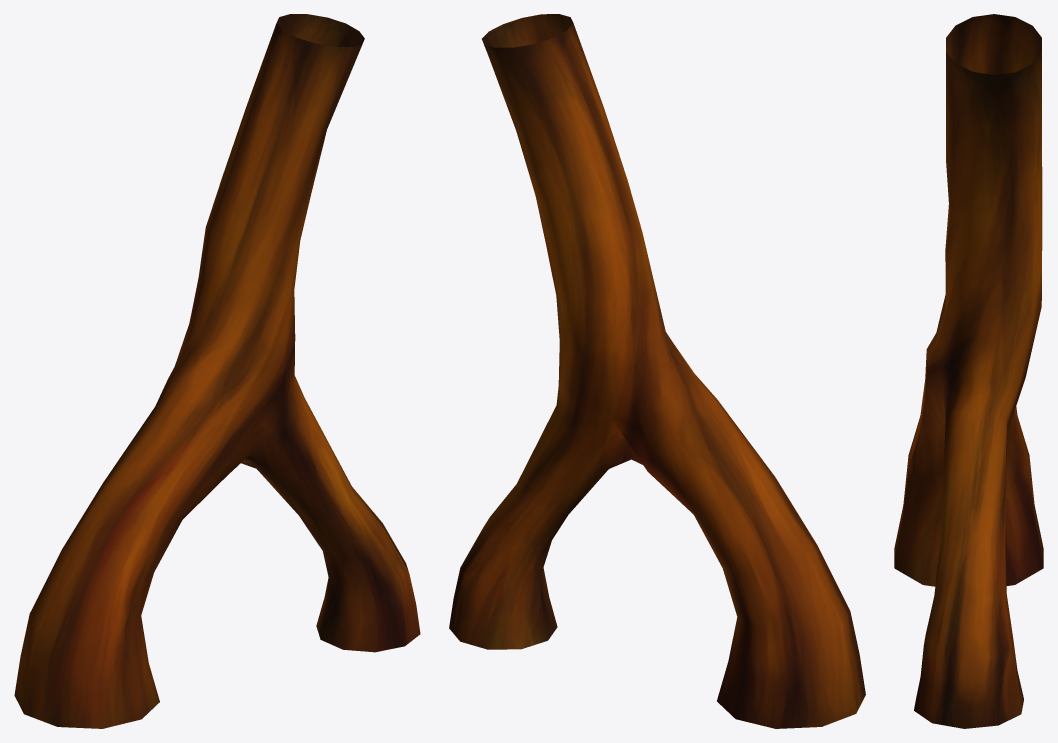
Rendered from TreeSmall.fbx.
3 views of the same model, side by side, from view 1: azimuth 30°, elevation 25°; view 2: azimuth 150°, elevation 25°; view 3: azimuth 270°, elevation 25° (orthographic). The views are drawn at different scales.
Visible parts, largest first — view 1: pCylinder6; view 2: pCylinder6; view 3: pCylinder6.
Part boxes in pixels (left/top/right/bottom): pCylinder6: left=14, top=14, right=420, bottom=728; pCylinder6: left=449, top=14, right=865, bottom=728; pCylinder6: left=894, top=14, right=1043, bottom=728.
Size of the model in its own units: 179 by 267 by 55.3.
